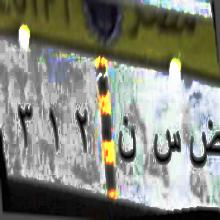1: (46, 100, 63, 160)
2: (69, 98, 92, 157)
3: (15, 94, 36, 156)
daad: (188, 109, 220, 172)
noon: (117, 111, 138, 170)
seen: (146, 112, 183, 180)
